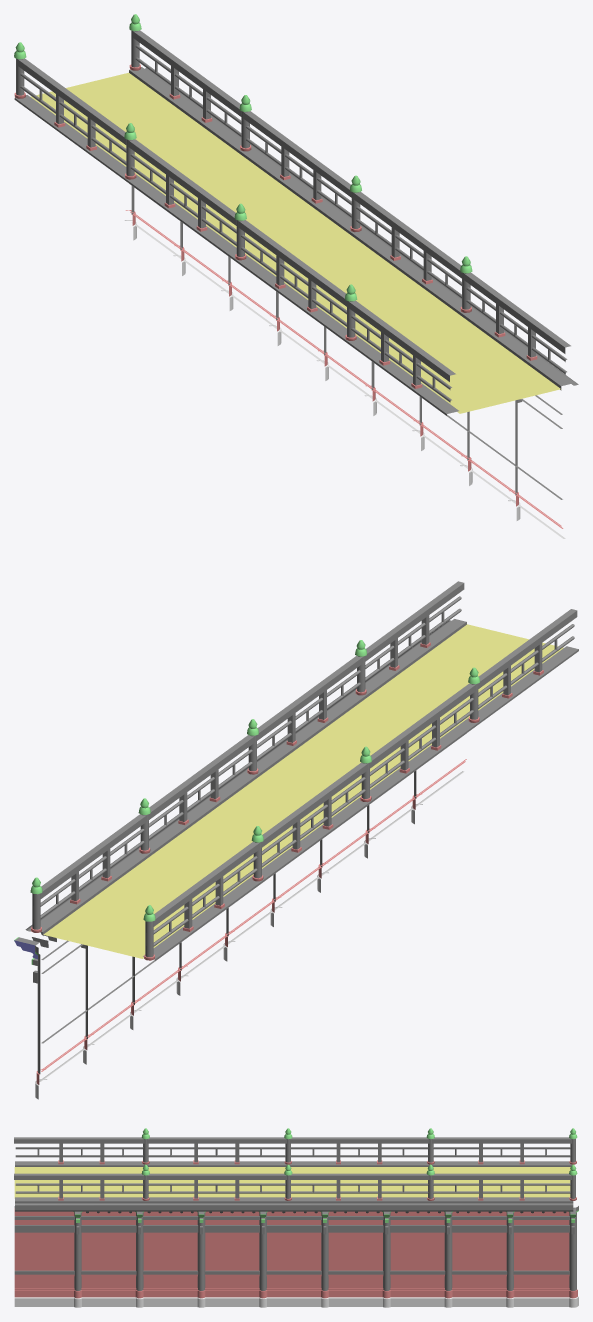
File: SM_ENV_KNVLLG03_Bridge_StraightB.gltf
3 renders of one model, top to bottom at view 1: azimuth 30°, elevation 25°; view 2: azimuth 150°, elevation 25°; view 3: azimuth 270°, elevation 25°, orthographic. The views are drawn at different scales.
Parts seen in each view (by area): view 1: SM_ENV_KNVLLG03_Bridge_StraightB; view 2: SM_ENV_KNVLLG03_Bridge_StraightB; view 3: SM_ENV_KNVLLG03_Bridge_StraightB.
Boxes of the visible parts, box(x1,y1,x2,y2) form: SM_ENV_KNVLLG03_Bridge_StraightB: box(14, 14, 578, 538); SM_ENV_KNVLLG03_Bridge_StraightB: box(14, 581, 578, 1099); SM_ENV_KNVLLG03_Bridge_StraightB: box(14, 1128, 578, 1307).
Bounding box in the file's own units: 5.59 × 8.33 × 29.87.
